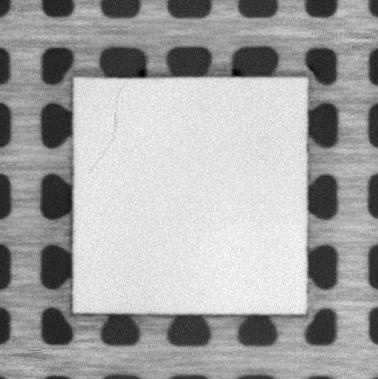DIE_CRACK: (88, 86, 123, 172)
